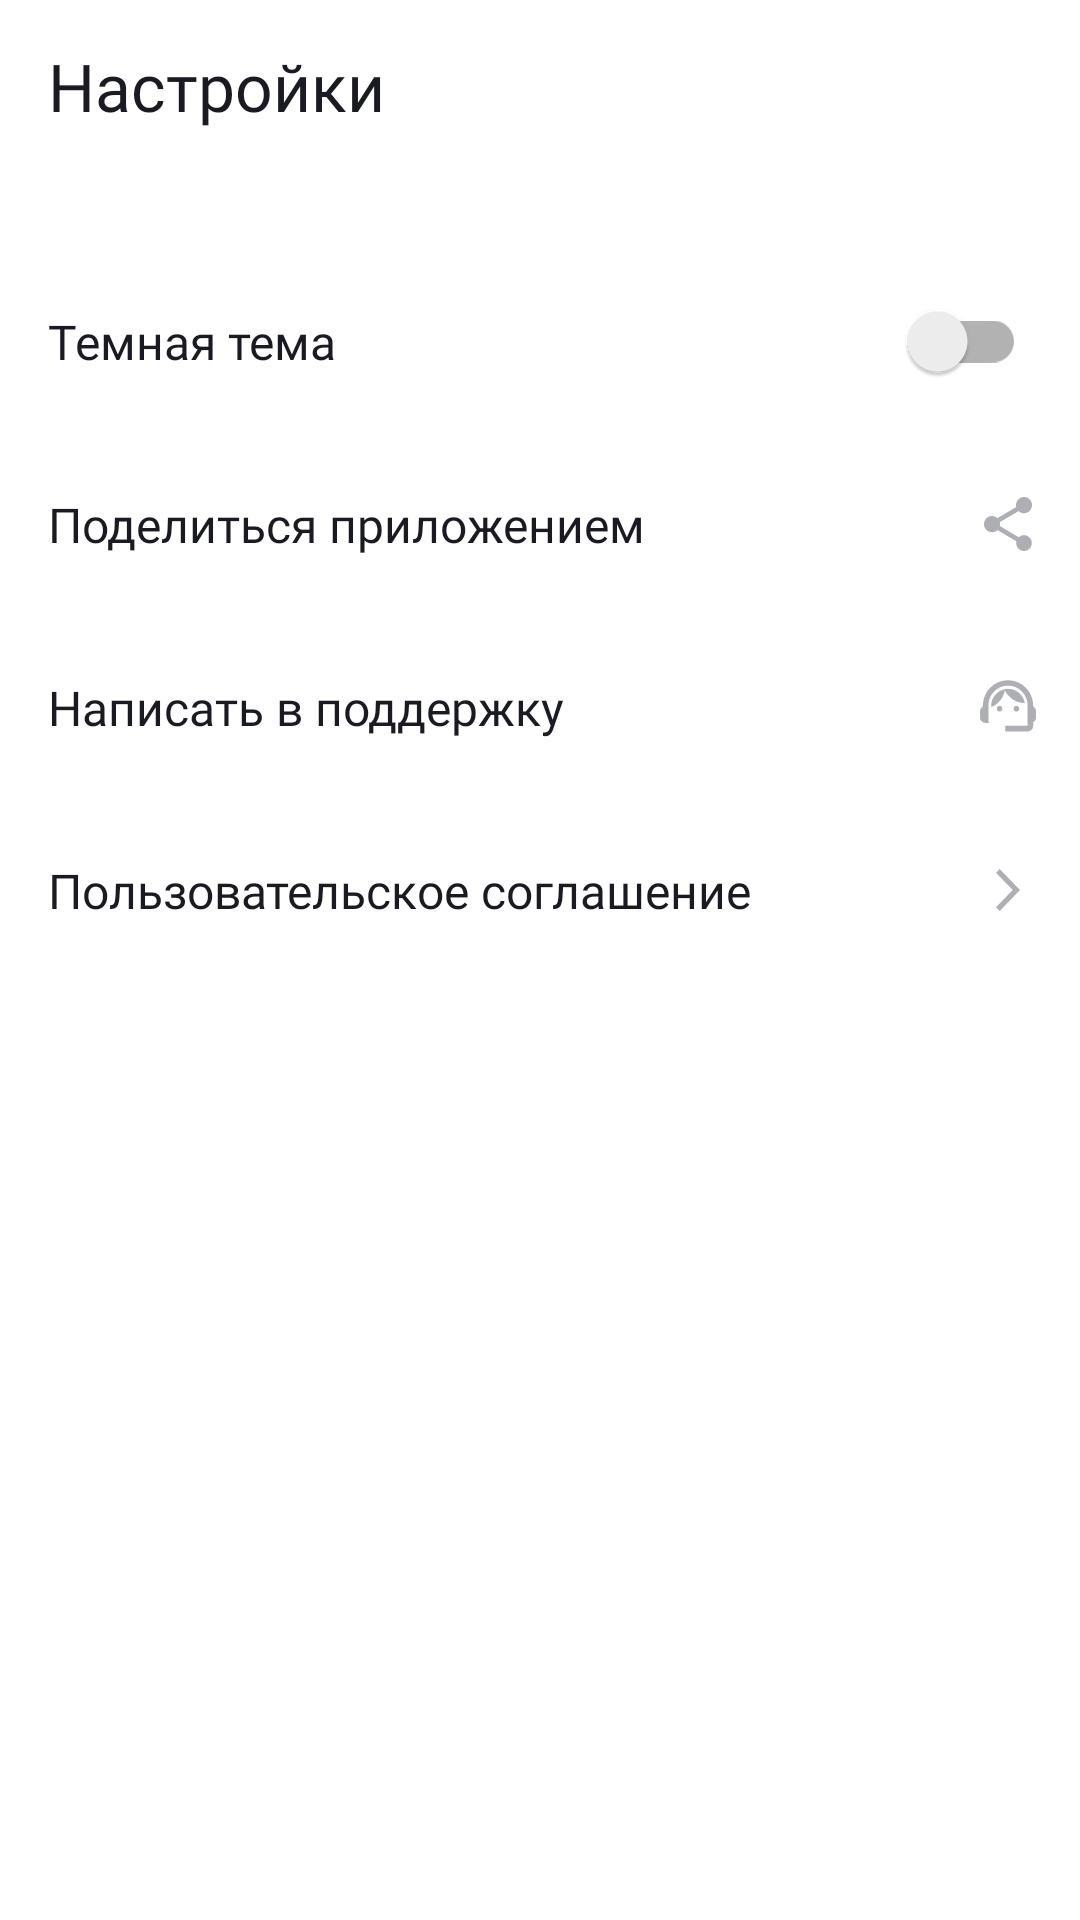

Named icons in this screenshot (1080x1920) and their bounding boxes, bbox(x1, y1, x2, y2):
share app: bbox(984, 497, 1032, 551)
write to the support: bbox(980, 680, 1036, 732)
